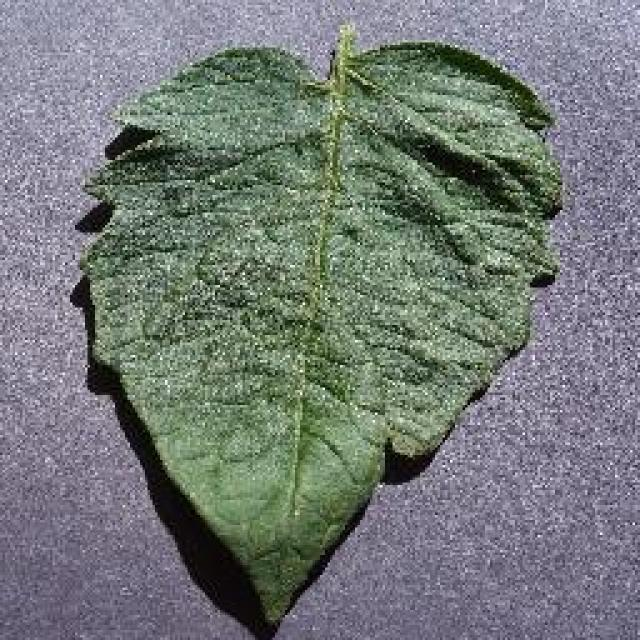Tomato___healthy: (70, 22, 567, 632)
